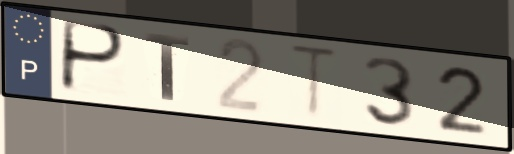2: (213, 36, 270, 117), (433, 63, 491, 136)
3: (361, 56, 418, 129)
P: (57, 17, 130, 96)
T: (284, 40, 344, 124), (141, 30, 193, 104)
